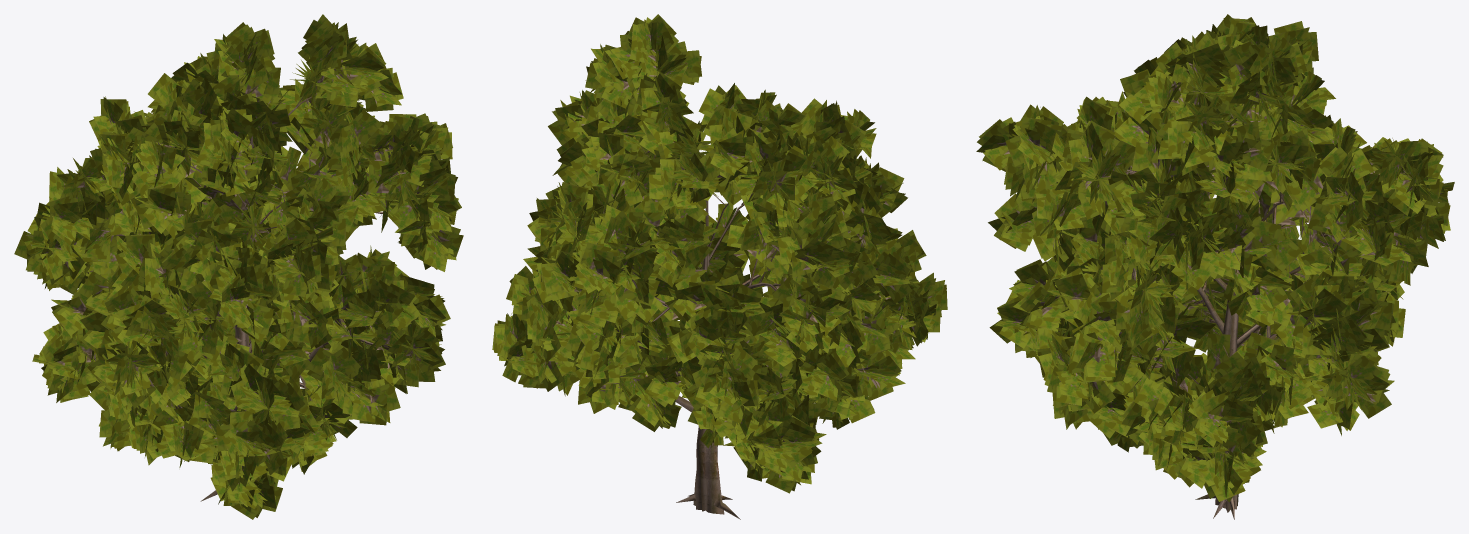
The model's file is maple-green-balanced.gltf.
The picture shows the model from 3 angles, left to right: view 1: azimuth 30°, elevation 25°; view 2: azimuth 150°, elevation 25°; view 3: azimuth 270°, elevation 25°; orthographic projection. The views are drawn at different scales.
Parts seen in each view (by area): view 1: Sugar Maple balanced Green; view 2: Sugar Maple balanced Green; view 3: Sugar Maple balanced Green.
Boxes of the visible parts, x1,y1,x2,y2 form: Sugar Maple balanced Green: (14,14,463,519); Sugar Maple balanced Green: (492,14,947,519); Sugar Maple balanced Green: (976,14,1454,519).
Size of the model in its own units: 774 by 900 by 773.
2 materials, 2 textured.
